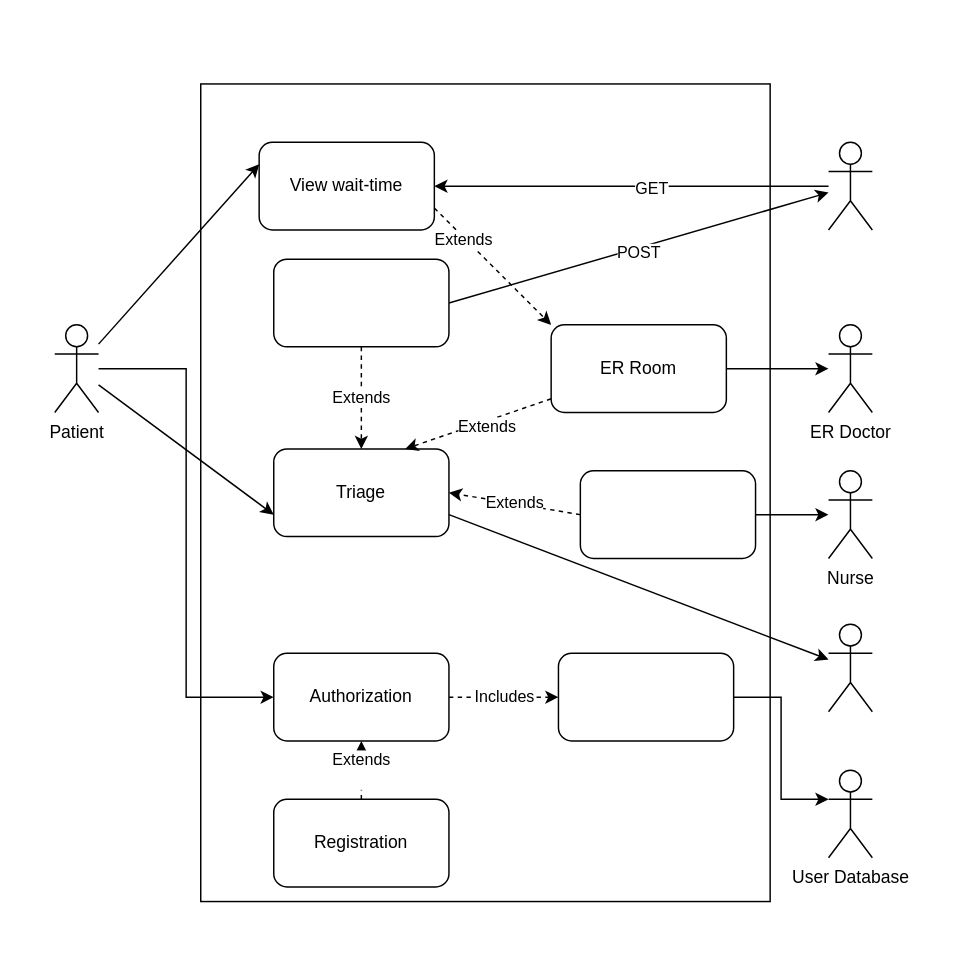
The diagram is 969 pixels wide and 969 high, and some of its shapes have lost their labels. Each missing label, with the box of its shape:
Enter Wailist: (272, 258, 449, 347)
GP: (827, 623, 872, 712)
Hotline: (579, 469, 756, 558)
Login: (557, 652, 734, 741)
Patient Load Database: (827, 141, 872, 230)
